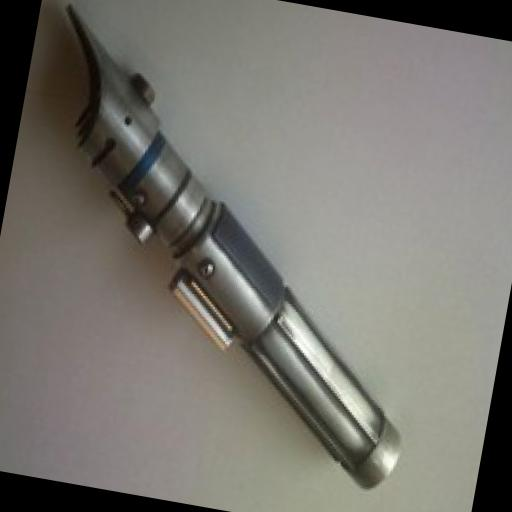lightsaber: (0, 2, 471, 497)
